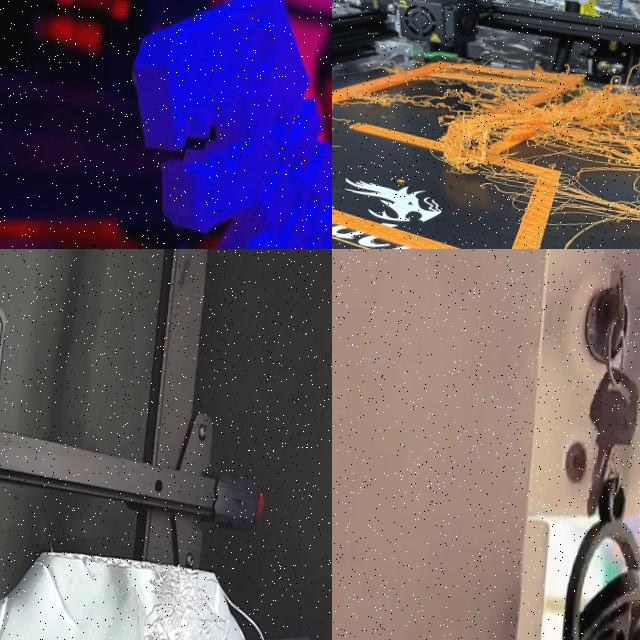spaghetti: (332, 70, 640, 222), (90, 552, 306, 640)
